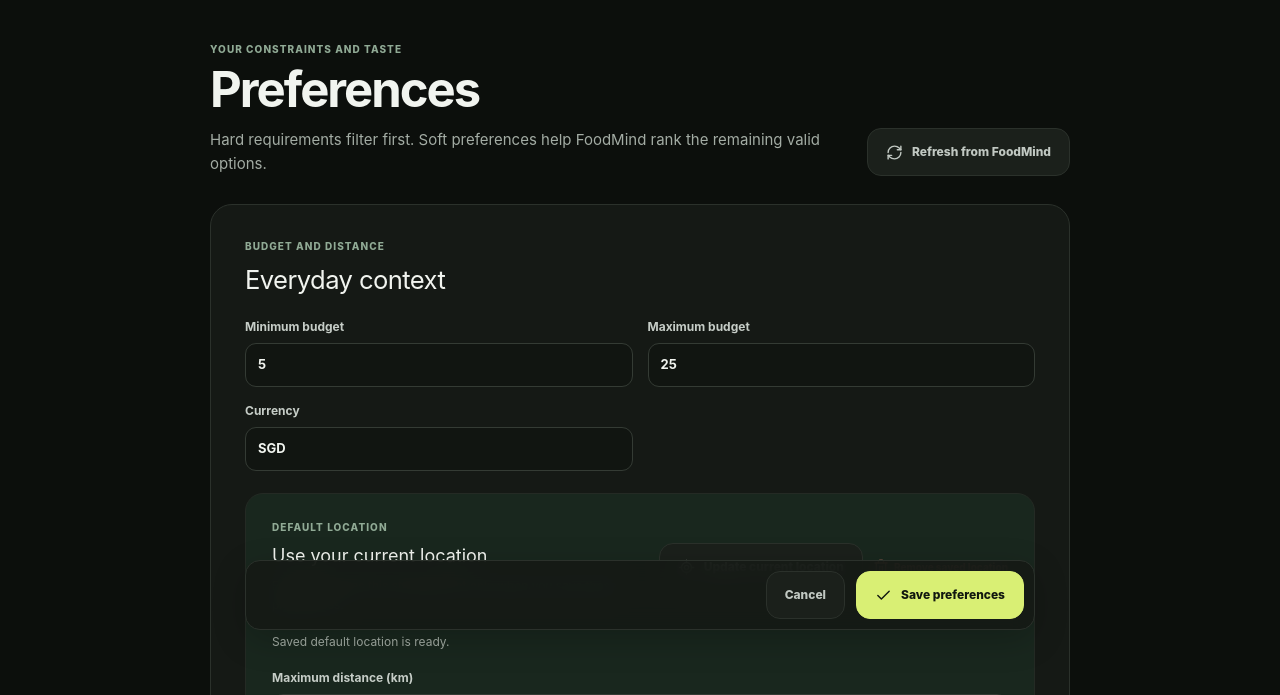
Test: preferences form › refreshes preferences from Backend and confirms the sync
The image size is (1280, 695).
expect the heading "Preferences" is shown: met, box [210, 60, 479, 119]
Step 1. Click the button "Refresh from FoodMind" → (968, 152), box [867, 128, 1070, 176]
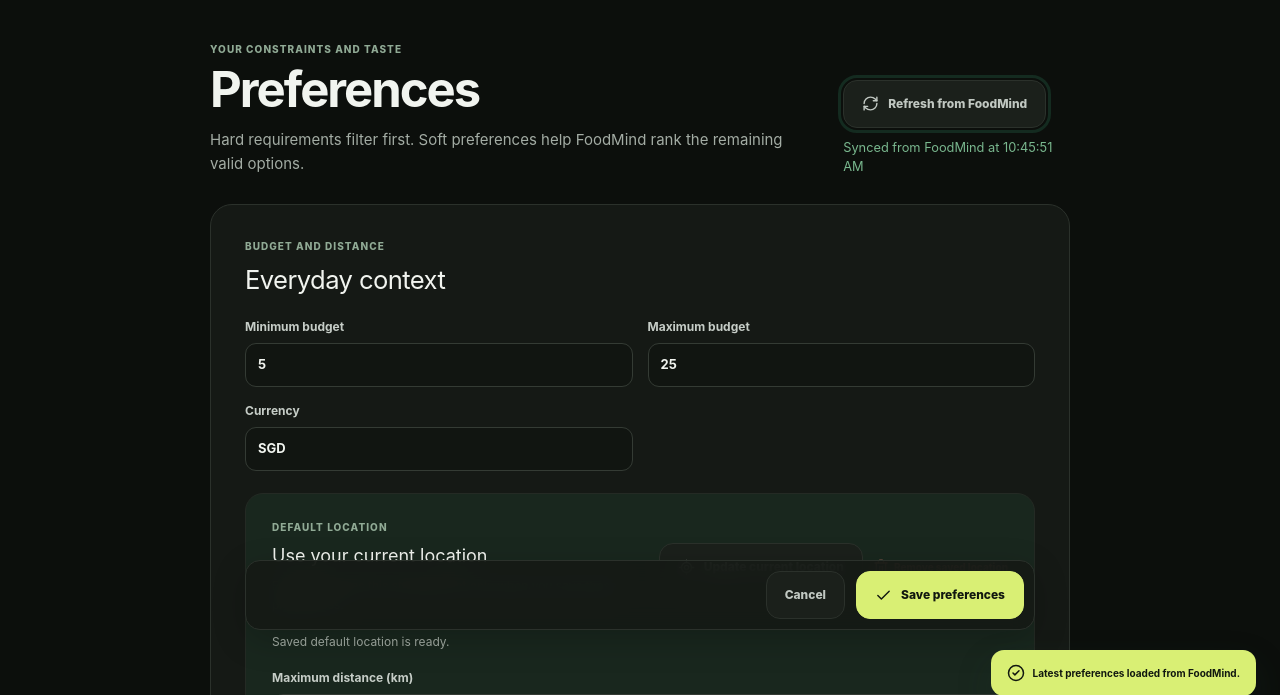
expect the text "Synced from FoodMind at 10:45:51 AM" is shown: met, box [843, 138, 1070, 176]
